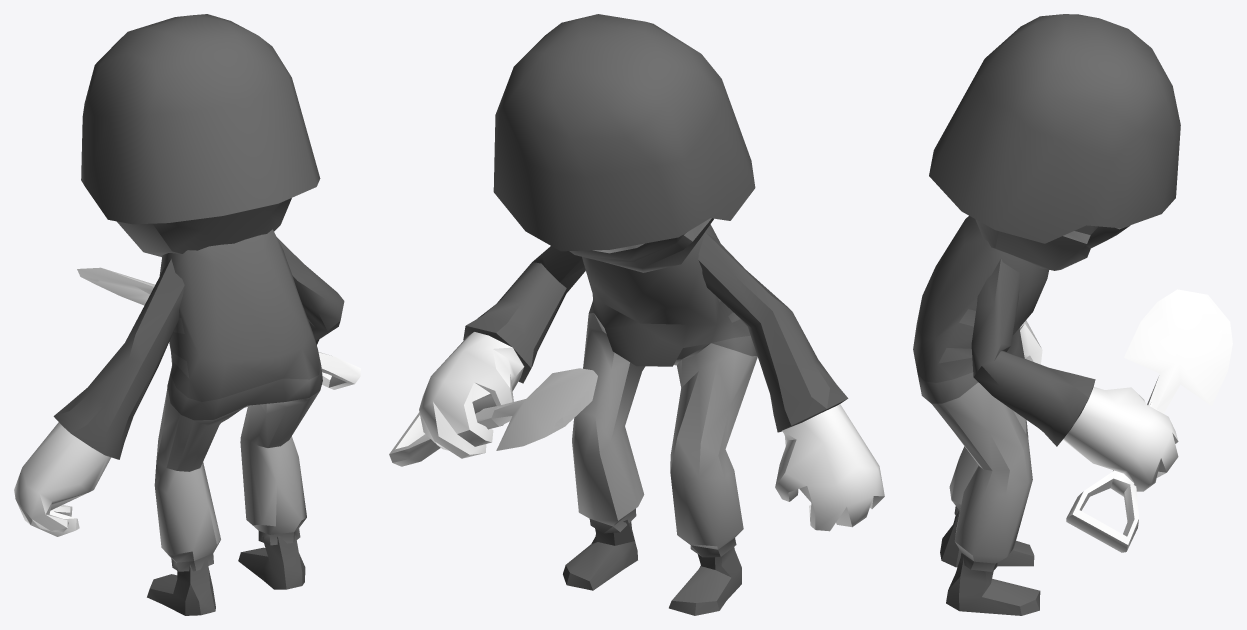
Rendered from crimson_sapper.glb.
The picture shows the model from 3 angles, left to right: view 1: azimuth 30°, elevation 25°; view 2: azimuth 150°, elevation 25°; view 3: azimuth 270°, elevation 25°; orthographic projection. The views are drawn at different scales.
Visible parts, largest first — view 1: Body; view 2: Body; view 3: Body.
Boxes of the visible parts, x1,y1,x2,y2 form: Body: [14, 14, 360, 615]; Body: [389, 14, 884, 615]; Body: [913, 14, 1232, 615].
Bounding box in the file's own units: 1.34 × 1.8 × 0.9343.
Materials: 2 (1 with a texture image).
